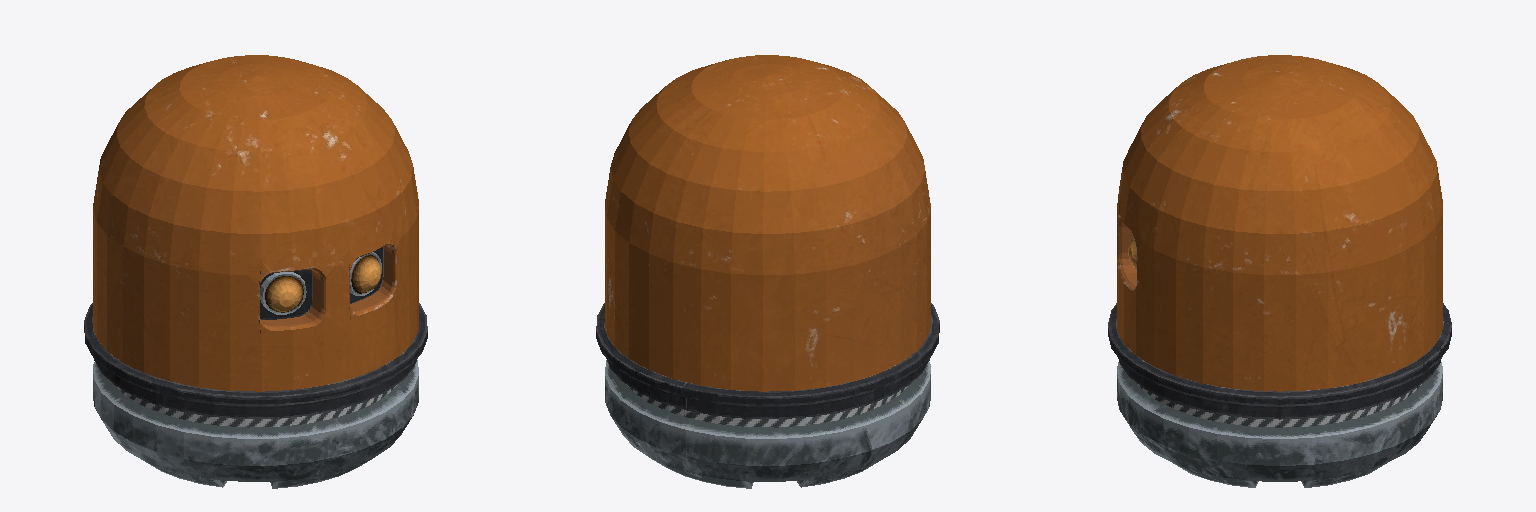
3 renders of one model, left to right at view 1: azimuth 30°, elevation 25°; view 2: azimuth 150°, elevation 25°; view 3: azimuth 270°, elevation 25°, orthographic.
Visible parts, largest first — view 1: Object_478; view 2: Object_478; view 3: Object_478.
Boxes of the visible parts, box(x1,y1,x2,y2) form: Object_478: box(84, 55, 427, 488); Object_478: box(596, 55, 939, 488); Object_478: box(1108, 55, 1451, 487).
Size of the model in its own units: 0.5006 by 0.5779 by 0.5006.
Materials: 1 (1 with a texture image).